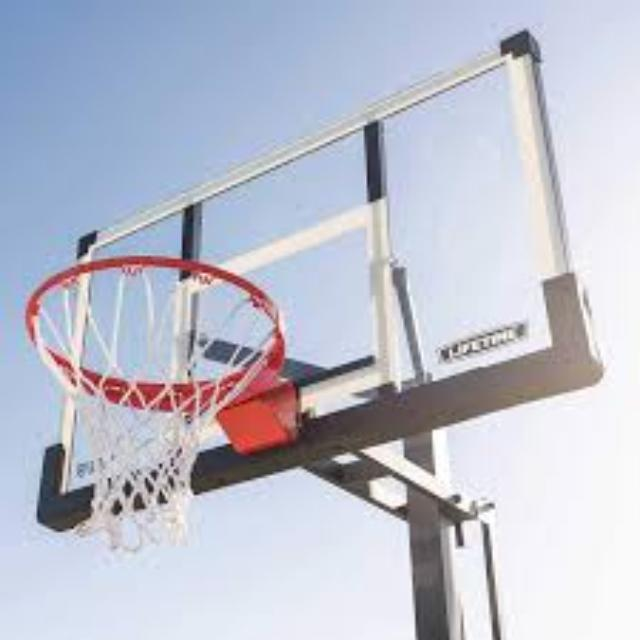rim: (26, 254, 282, 542)
